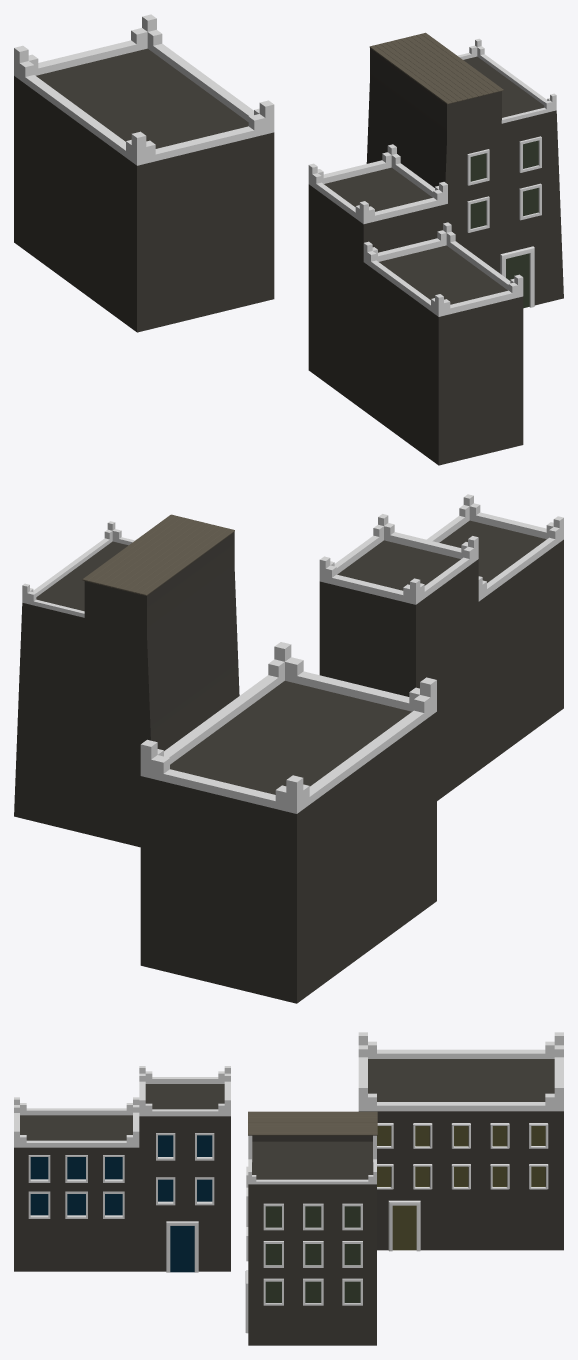
File: Houses.fbx
3 views of the same model, one above another, from view 1: azimuth 30°, elevation 25°; view 2: azimuth 150°, elevation 25°; view 3: azimuth 270°, elevation 25° (orthographic). The views are drawn at different scales.
Parts seen in each view (by area): view 1: pCube138, pCube141, pCube137; view 2: pCube138, pCube137, pCube141; view 3: pCube138, pCube141, pCube137.
Boxes of the visible parts, x1=… form: pCube138: x1=14, y1=14, x2=274, y2=332; pCube141: x1=308, y1=144, x2=523, y2=465; pCube137: x1=366, y1=32, x2=563, y2=308; pCube138: x1=140, y1=642, x2=436, y2=1003; pCube137: x1=14, y1=514, x2=239, y2=847; pCube141: x1=319, y1=494, x2=563, y2=800; pCube138: x1=358, y1=1032, x2=563, y2=1251; pCube141: x1=14, y1=1066, x2=230, y2=1272; pCube137: x1=245, y1=1111, x2=377, y2=1345.
Bounding box in the file's own units: 26.08 × 15.44 × 41.25.
